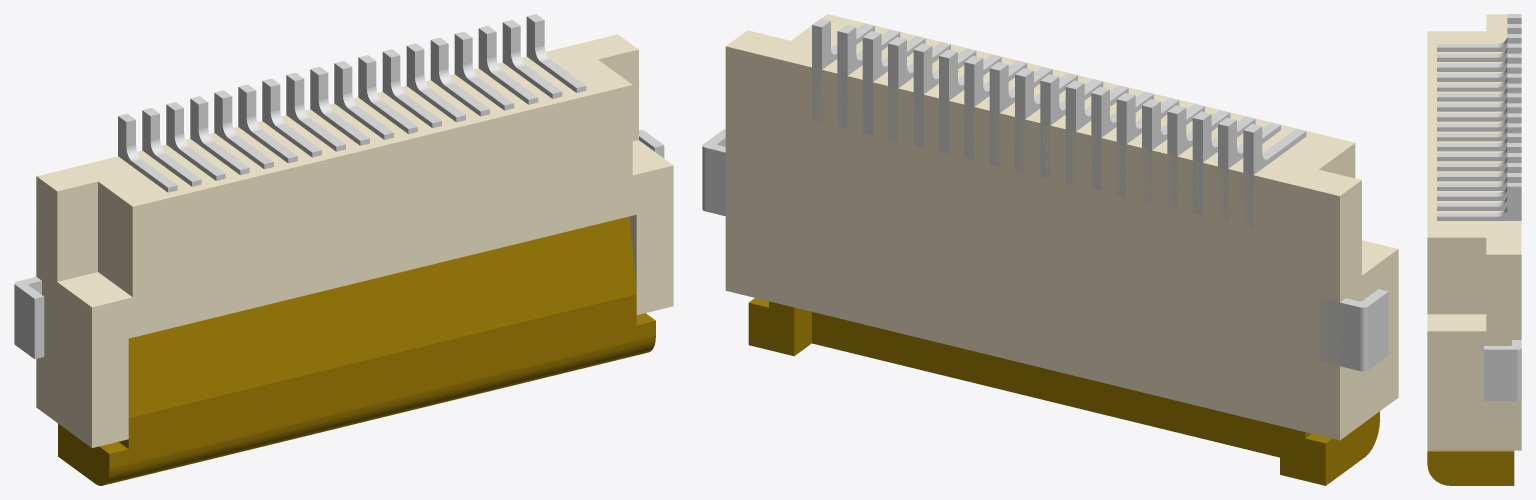
The model's file is Hirose_FH12-18S-0.5SH_1x18-1MP_P0.50mm_Horizontal.glb.
The picture shows the model from 3 angles, left to right: view 1: azimuth 30°, elevation 25°; view 2: azimuth 150°, elevation 25°; view 3: azimuth 270°, elevation 25°; orthographic projection. The views are drawn at different scales.
Parts seen in each view (by area): view 1: Shape_IndexedFaceSet.005, Shape_IndexedFaceSet.023, Shape_IndexedFaceSet.016, Shape_IndexedFaceSet, Shape_IndexedFaceSet.008, Shape_IndexedFaceSet.018, Shape_IndexedFaceSet.007, Shape_IndexedFaceSet.006, Shape_IndexedFaceSet.020, Shape_IndexedFaceSet.014, Shape_IndexedFaceSet.003, Shape_IndexedFaceSet.259 (+1 smaller); view 2: Shape_IndexedFaceSet.001, Shape_IndexedFaceSet.030, Shape_IndexedFaceSet, Shape_IndexedFaceSet.008, Shape_IndexedFaceSet.266, Shape_IndexedFaceSet.026, Shape_IndexedFaceSet.027, Shape_IndexedFaceSet.020, Shape_IndexedFaceSet.257, Shape_IndexedFaceSet.259, Shape_IndexedFaceSet.222, Shape_IndexedFaceSet.228 (+17 smaller); view 3: Shape_IndexedFaceSet.002, Shape_IndexedFaceSet, Shape_IndexedFaceSet.004, Shape_IndexedFaceSet.017, Shape_IndexedFaceSet.250, Shape_IndexedFaceSet.010, Shape_IndexedFaceSet.106, Shape_IndexedFaceSet.082, Shape_IndexedFaceSet.074, Shape_IndexedFaceSet.078, Shape_IndexedFaceSet.070, Shape_IndexedFaceSet.062 (+33 smaller).
Boxes of the visible parts, <box> form: Shape_IndexedFaceSet.005: <box>92,85,673,447</box>; Shape_IndexedFaceSet.023: <box>128,216,636,417</box>; Shape_IndexedFaceSet.016: <box>109,294,655,468</box>; Shape_IndexedFaceSet: <box>37,34,638,206</box>; Shape_IndexedFaceSet.008: <box>36,176,91,447</box>; Shape_IndexedFaceSet.018: <box>103,336,655,485</box>; Shape_IndexedFaceSet.007: <box>57,181,97,281</box>; Shape_IndexedFaceSet.006: <box>98,181,132,296</box>; Shape_IndexedFaceSet.020: <box>58,423,109,485</box>; Shape_IndexedFaceSet.014: <box>58,272,132,307</box>; Shape_IndexedFaceSet.003: <box>598,49,638,141</box>; Shape_IndexedFaceSet.259: <box>15,285,34,358</box>; Shape_IndexedFaceSet.001: <box>725,46,1339,440</box>; Shape_IndexedFaceSet.030: <box>812,312,1279,457</box>; Shape_IndexedFaceSet: <box>726,14,1361,195</box>; Shape_IndexedFaceSet.008: <box>1340,180,1398,440</box>; Shape_IndexedFaceSet.266: <box>1319,298,1360,370</box>; Shape_IndexedFaceSet.026: <box>748,301,794,355</box>; Shape_IndexedFaceSet.027: <box>1280,426,1325,485</box>; Shape_IndexedFaceSet.020: <box>1325,411,1379,485</box>; Shape_IndexedFaceSet.257: <box>705,147,745,220</box>; Shape_IndexedFaceSet.259: <box>1368,292,1388,369</box>; Shape_IndexedFaceSet.222: <box>862,37,872,135</box>; Shape_IndexedFaceSet.228: <box>837,31,847,128</box>; Shape_IndexedFaceSet.002: <box>1427,254,1521,450</box>; Shape_IndexedFaceSet: <box>1427,14,1521,254</box>; Shape_IndexedFaceSet.004: <box>1427,237,1486,314</box>; Shape_IndexedFaceSet.017: <box>1427,452,1514,485</box>; Shape_IndexedFaceSet.250: <box>1484,349,1516,400</box>; Shape_IndexedFaceSet.010: <box>1427,314,1486,331</box>; Shape_IndexedFaceSet.106: <box>1437,186,1521,220</box>; Shape_IndexedFaceSet.082: <box>1437,127,1521,161</box>; Shape_IndexedFaceSet.074: <box>1437,107,1521,141</box>; Shape_IndexedFaceSet.078: <box>1437,117,1521,151</box>; Shape_IndexedFaceSet.070: <box>1437,97,1521,131</box>; Shape_IndexedFaceSet.062: <box>1437,77,1521,111</box>.
Bounding box in the file's own units: 5.16 × 2.52 × 0.7874.
